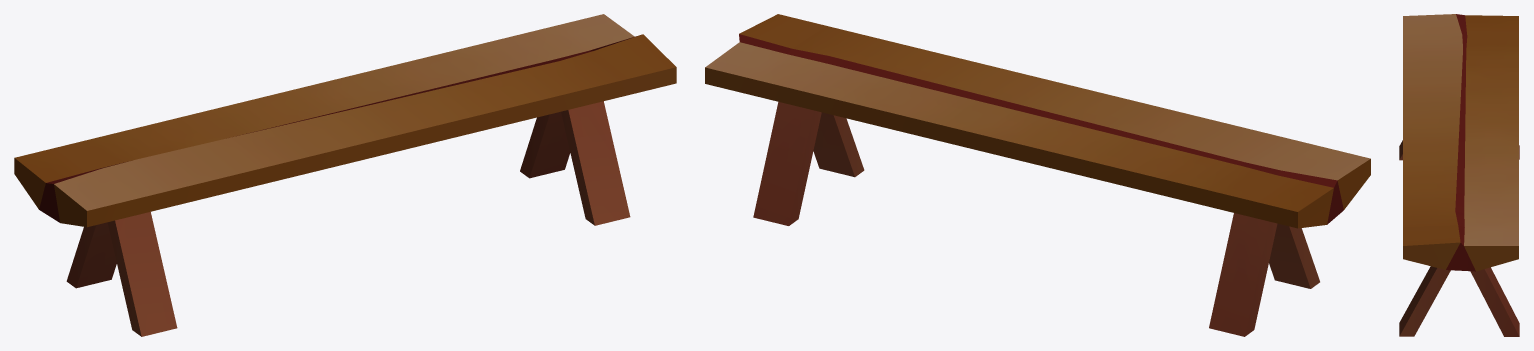
Rendered from SM_Bench_01.fbx.
The picture shows the model from 3 angles, left to right: view 1: azimuth 30°, elevation 25°; view 2: azimuth 150°, elevation 25°; view 3: azimuth 270°, elevation 25°; orthographic projection. The views are drawn at different scales.
Parts seen in each view (by area): view 1: SM_Bench_01; view 2: SM_Bench_01; view 3: SM_Bench_01.
Part boxes in pixels (<box>): SM_Bench_01: <box>14,14,676,336</box>; SM_Bench_01: <box>705,14,1370,336</box>; SM_Bench_01: <box>1399,14,1519,336</box>.
Size of the model in its own units: 268 by 61.64 by 58.67.
